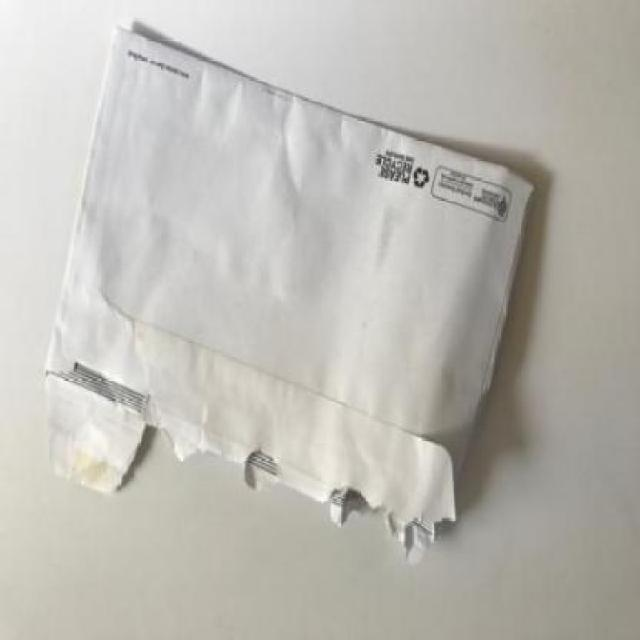giay: (46, 23, 554, 568)
